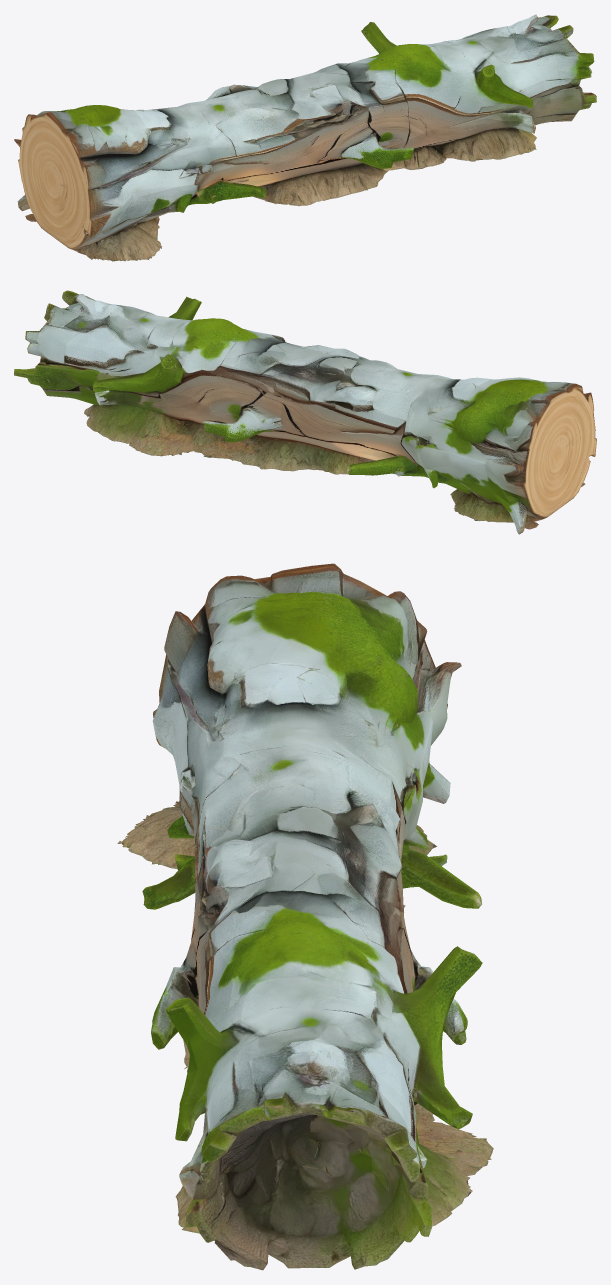
Rendered from fallen_log.glb.
3 renders of one model, top to bottom at view 1: azimuth 30°, elevation 25°; view 2: azimuth 150°, elevation 25°; view 3: azimuth 270°, elevation 25°, orthographic. The views are drawn at different scales.
Bounding box in the file's own units: 1.9 × 0.4127 × 0.5977.
1 material, 1 textured.
